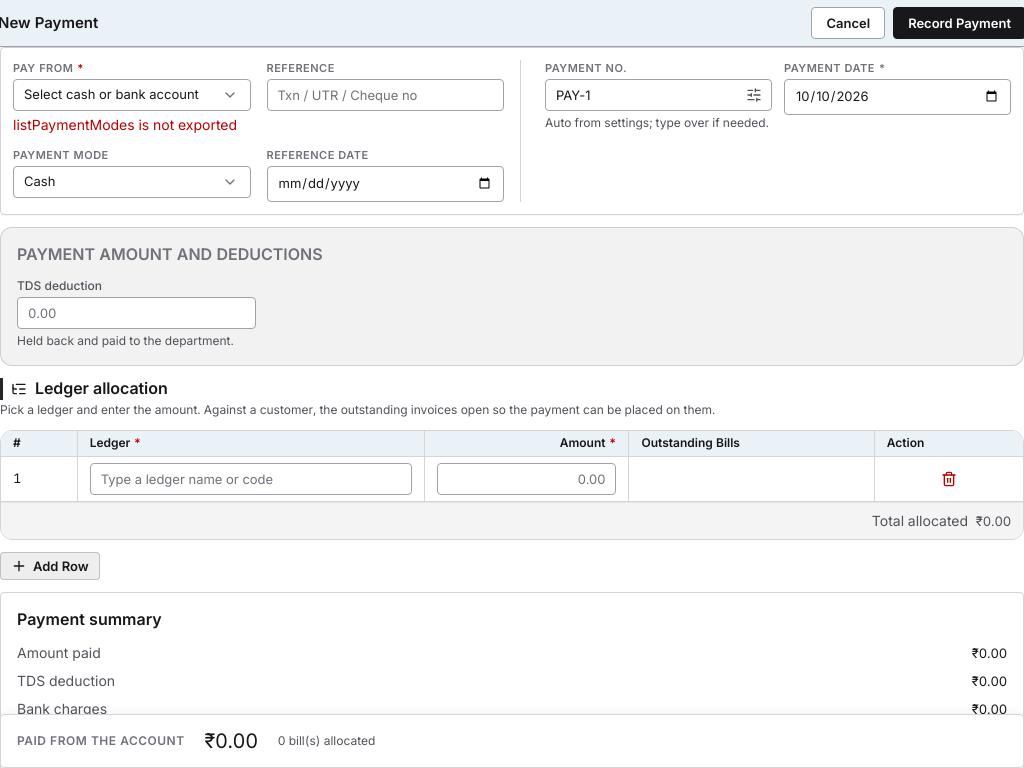
what is held back › totals the deductions and shows what actually leaves
This screenshot has width=1024, height=768.
In the dropdown named "Account, allocation row 1": coordinates (251, 479) [90,463,412,495], type "ABC"
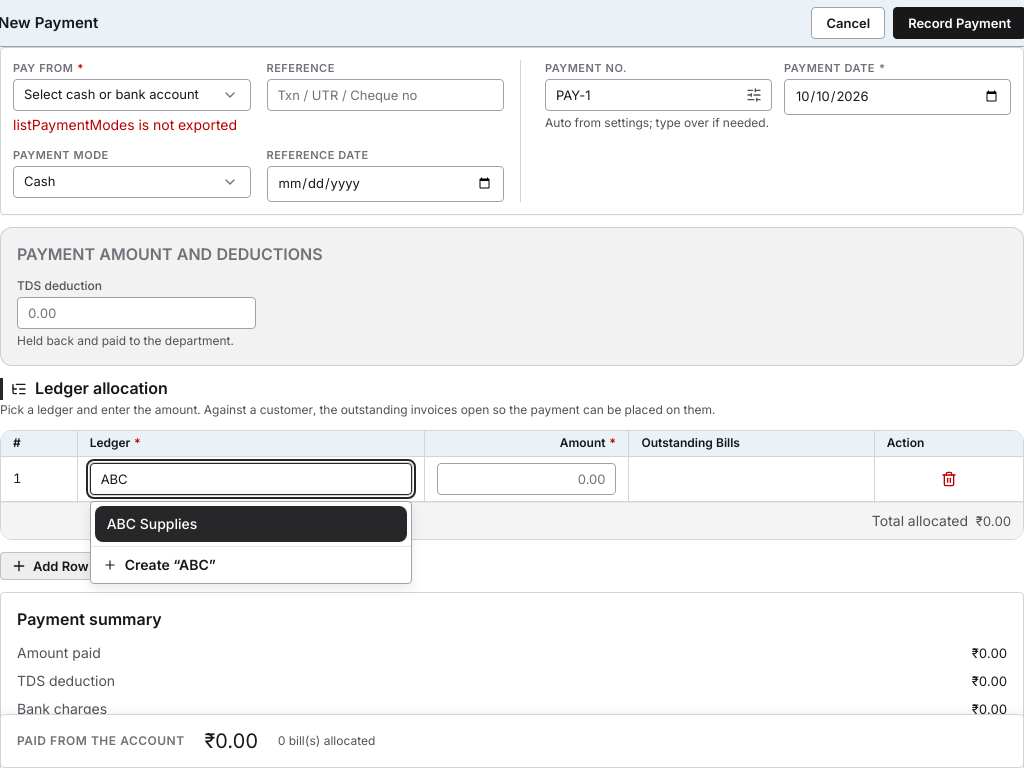
Click the option "ABC Supplies": coordinates (152, 524) [95,506,407,542]
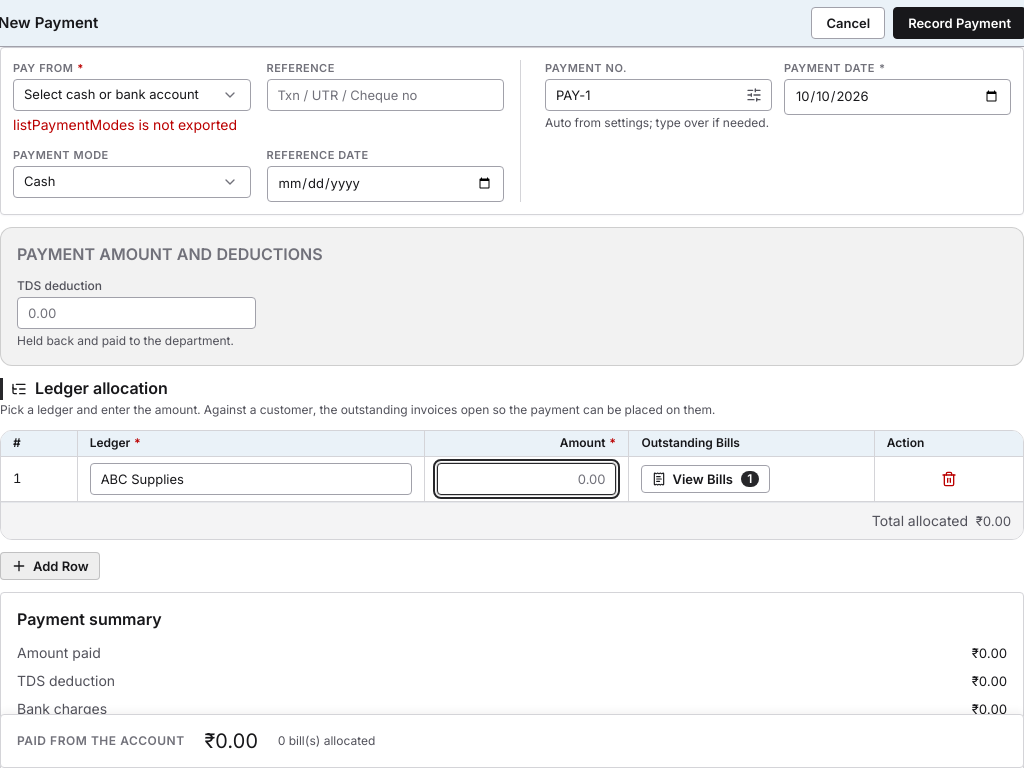
In the number field named "Amount, allocation row 1": coordinates (527, 479) [437,463,616,495], type "10000"
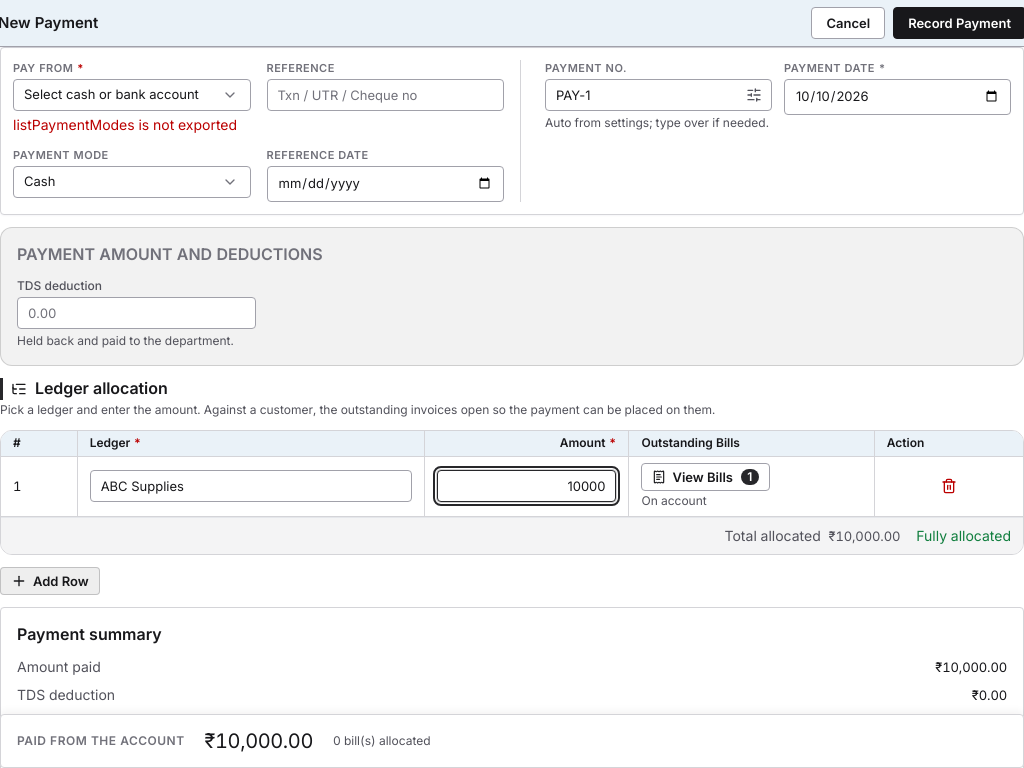
In the number field labelled "TDS deduction": coordinates (136, 313) [17,297,256,329], type "1000"
(page scrolled)
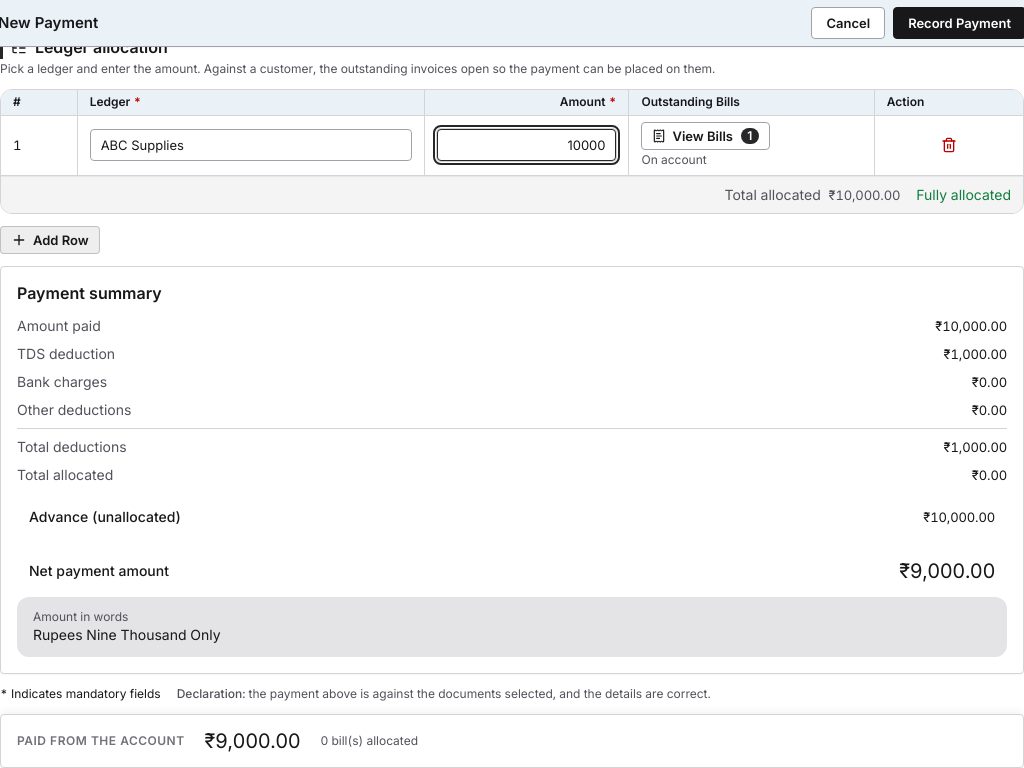
Expected: the element "Payment summary" shows "1,000", [944,346,1007,362]
Expected: the element "Payment summary" shows "9,000", [899,559,995,583]
